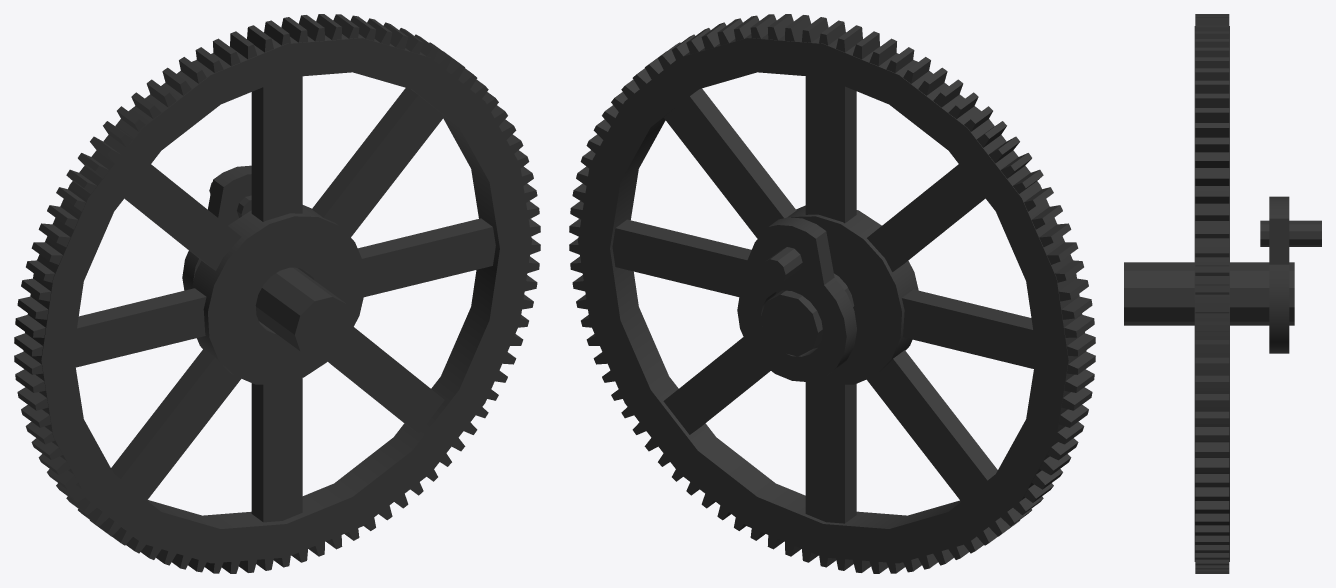
Rendered from valkyrium_engine_main_cog_geo.obj.
3 views of the same model, side by side, from view 1: azimuth 30°, elevation 25°; view 2: azimuth 150°, elevation 25°; view 3: azimuth 270°, elevation 25° (orthographic). The views are drawn at different scales.
Parts seen in each view (by area): view 1: valkyrium_engine_main_cog_geo; view 2: valkyrium_engine_main_cog_geo; view 3: valkyrium_engine_main_cog_geo.
Boxes of the visible parts, x1,y1,x2,y2 form: valkyrium_engine_main_cog_geo: [14, 14, 540, 573]; valkyrium_engine_main_cog_geo: [569, 14, 1095, 573]; valkyrium_engine_main_cog_geo: [1124, 14, 1321, 573].
Size of the model in its own units: 0.4963 by 0.4964 by 0.1752.
